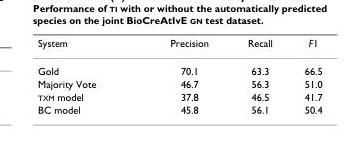table: (37, 36, 321, 115)
table column: (37, 36, 132, 115), (132, 36, 227, 115), (227, 36, 287, 115), (287, 36, 321, 115)
table column header: (37, 36, 321, 56)
table row: (37, 36, 321, 56), (37, 56, 321, 76), (37, 76, 321, 89), (37, 89, 321, 102), (37, 102, 321, 115)
